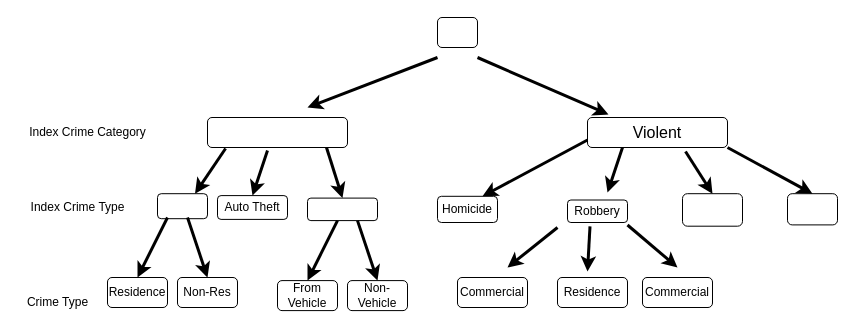
The diagram is 855 pixels wide and 335 high, and some of its shapes have lost their labels. Each missing label, with the centre of its shape:
"Agg Assault" belongs at (x=712, y=209).
"All" belongs at (x=457, y=32).
"Burglary" belongs at (x=182, y=206).
"Larceny" belongs at (x=342, y=209).
"Possession" belongs at (x=277, y=132).
"Rape" belongs at (x=812, y=209).
